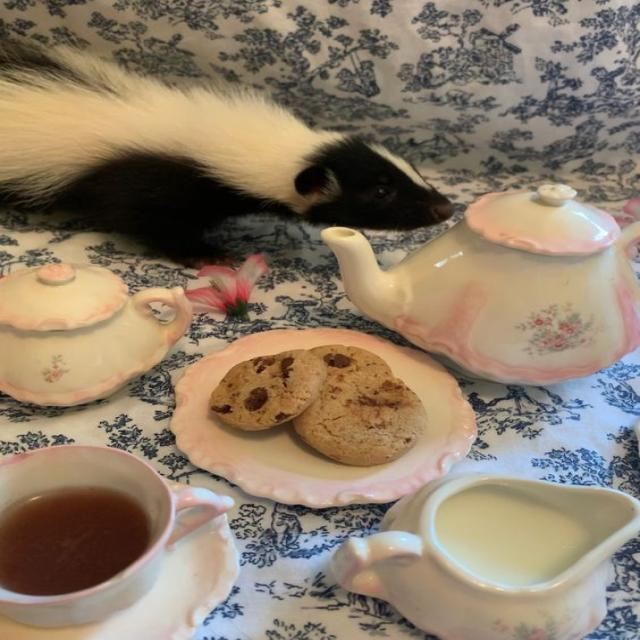Skunk: (0, 3, 463, 283)
